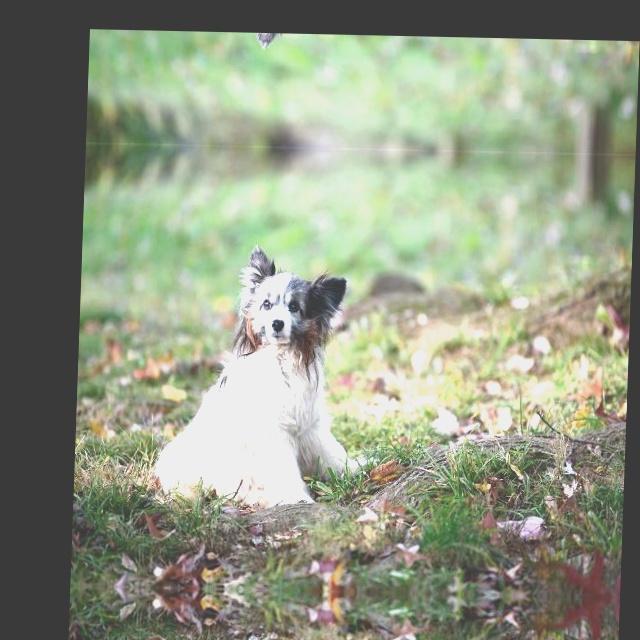dog: (146, 243, 372, 518), (162, 31, 379, 49)
